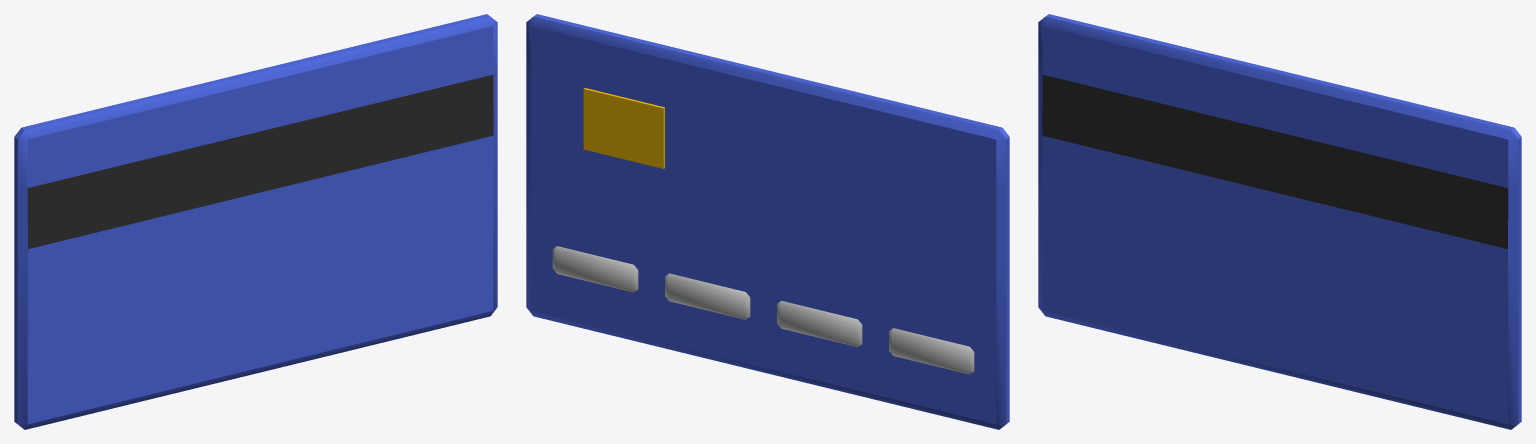
File: CreditCard.fbx
The picture shows the model from 3 angles, left to right: view 1: azimuth 30°, elevation 25°; view 2: azimuth 150°, elevation 25°; view 3: azimuth 330°, elevation 25°; orthographic projection.
Visible parts, largest first — view 1: CreditCard; view 2: CreditCard; view 3: CreditCard.
Boxes of the visible parts, x1,y1,x2,y2 form: CreditCard: (14, 14, 497, 429); CreditCard: (526, 14, 1009, 429); CreditCard: (1038, 14, 1521, 429).
Bounding box in the file's own units: 300 × 179 × 11.7.
